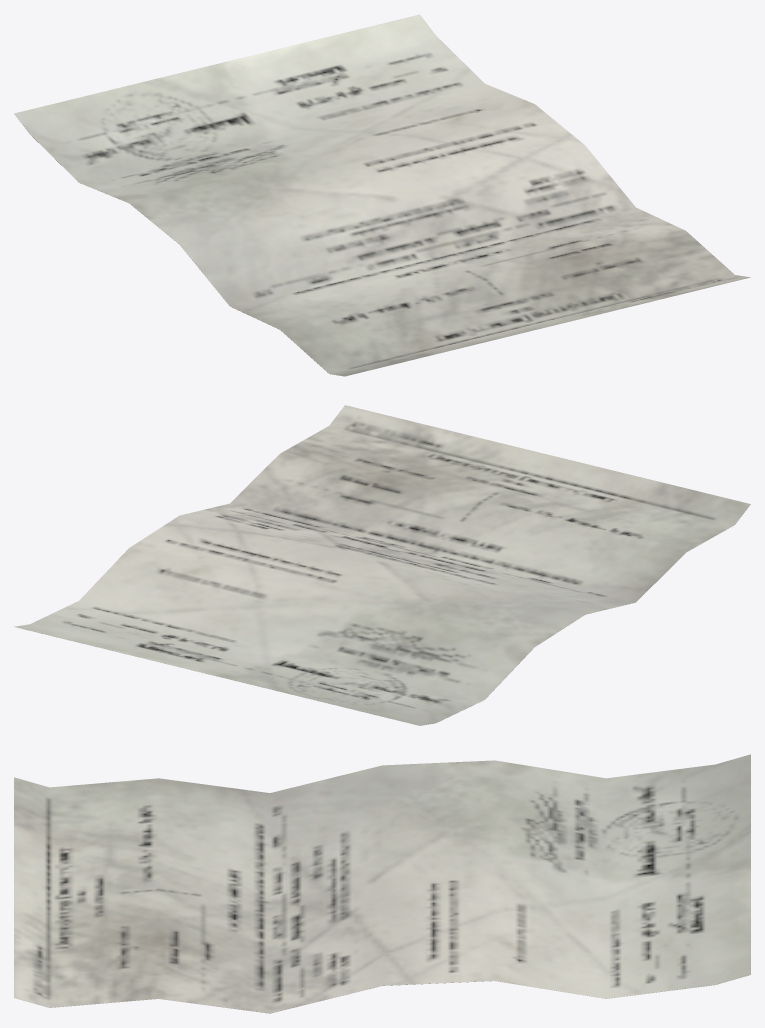
File: Paper_K.obj
The picture shows the model from 3 angles, top to bottom: view 1: azimuth 30°, elevation 25°; view 2: azimuth 150°, elevation 25°; view 3: azimuth 270°, elevation 25°; orthographic projection. The views are drawn at different scales.
Parts seen in each view (by area): view 1: Paper_K; view 2: Paper_K; view 3: Paper_K.
Part boxes in pixels (left/top/right/bottom): Paper_K: left=14, top=14, right=750, bottom=376; Paper_K: left=14, top=405, right=750, bottom=725; Paper_K: left=14, top=754, right=750, bottom=1013.
Size of the model in its own units: 12.35 by 1.02 by 17.45.
